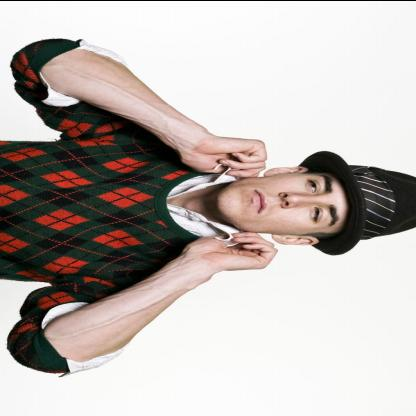hat: (304, 142, 416, 258)
